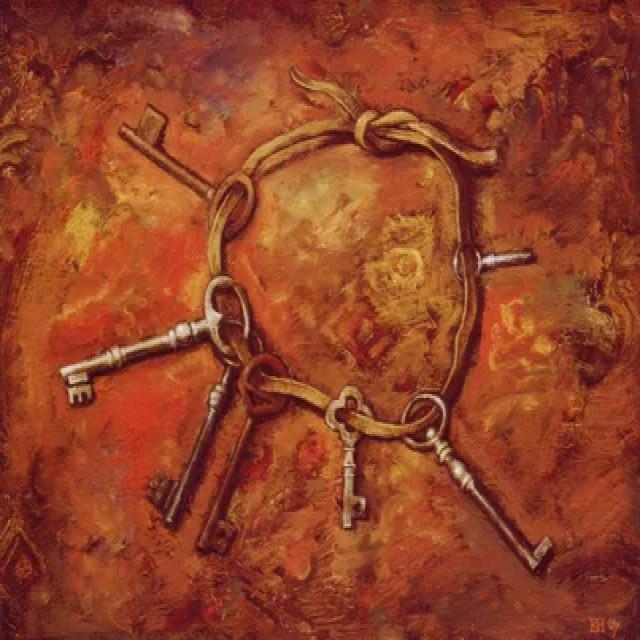key: (397, 382, 571, 588), (36, 271, 256, 402), (439, 224, 549, 292)
